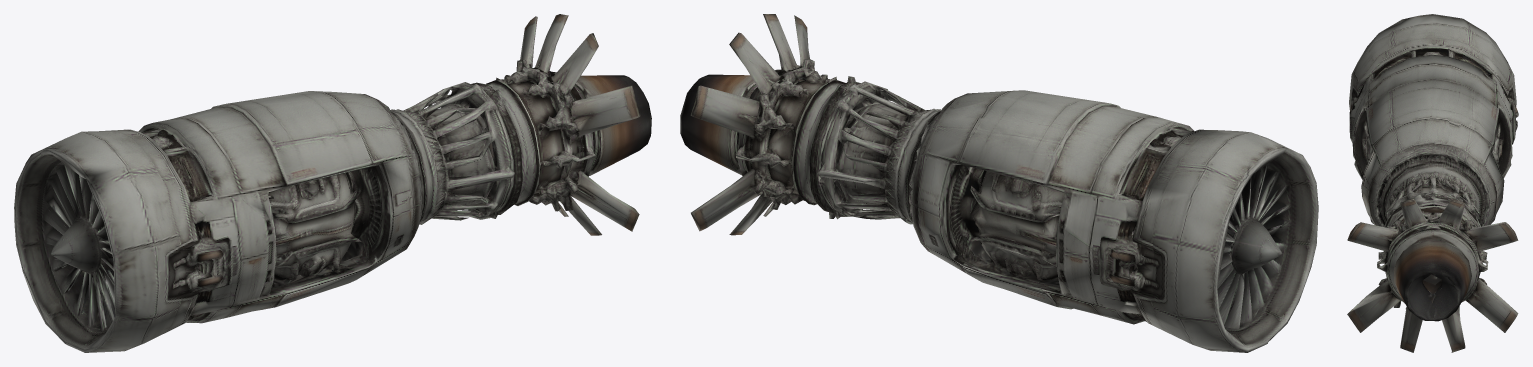
The model's file is Meshy_AI_Iron_Titan_Rocket_Eng_0611103803_texture.glb.
The picture shows the model from 3 angles, left to right: view 1: azimuth 30°, elevation 25°; view 2: azimuth 150°, elevation 25°; view 3: azimuth 270°, elevation 25°; orthographic projection. The views are drawn at different scales.
Parts seen in each view (by area): view 1: Mesh_0; view 2: Mesh_0; view 3: Mesh_0.
Boxes of the visible parts, x1,y1,x2,y2 form: Mesh_0: [14, 14, 651, 352]; Mesh_0: [680, 14, 1318, 352]; Mesh_0: [1347, 14, 1518, 352].
Size of the model in its own units: 7.39 by 2.44 by 2.48.
Materials: 1 (1 with a texture image).
